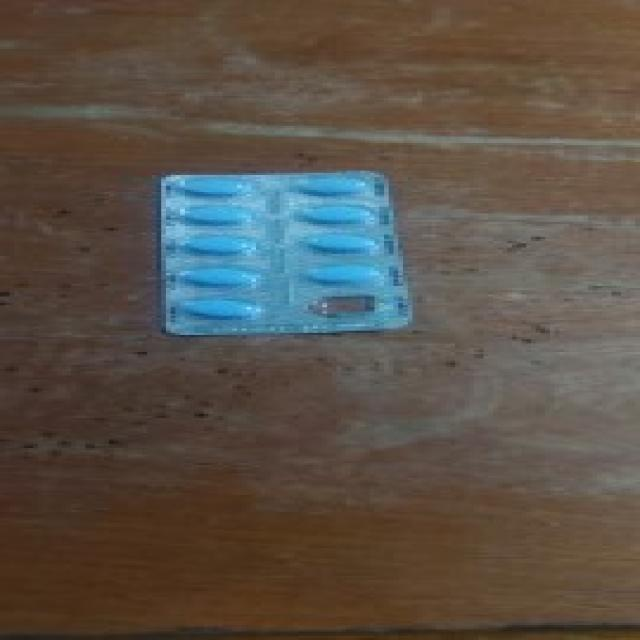Cacat: (159, 170, 412, 338)
Kemasan: (298, 290, 391, 321)
